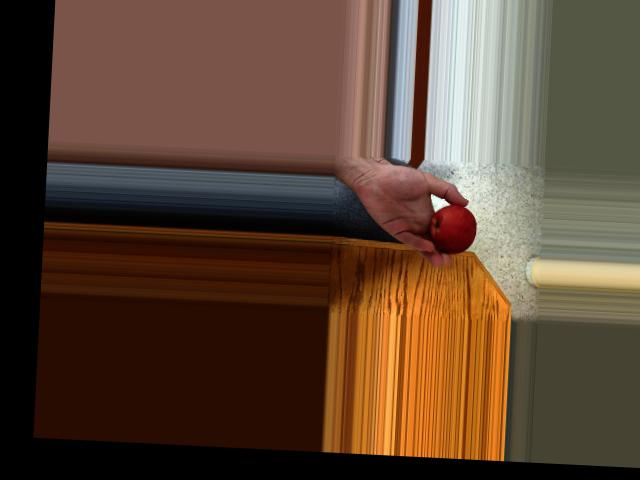apple: (428, 206, 480, 256)
